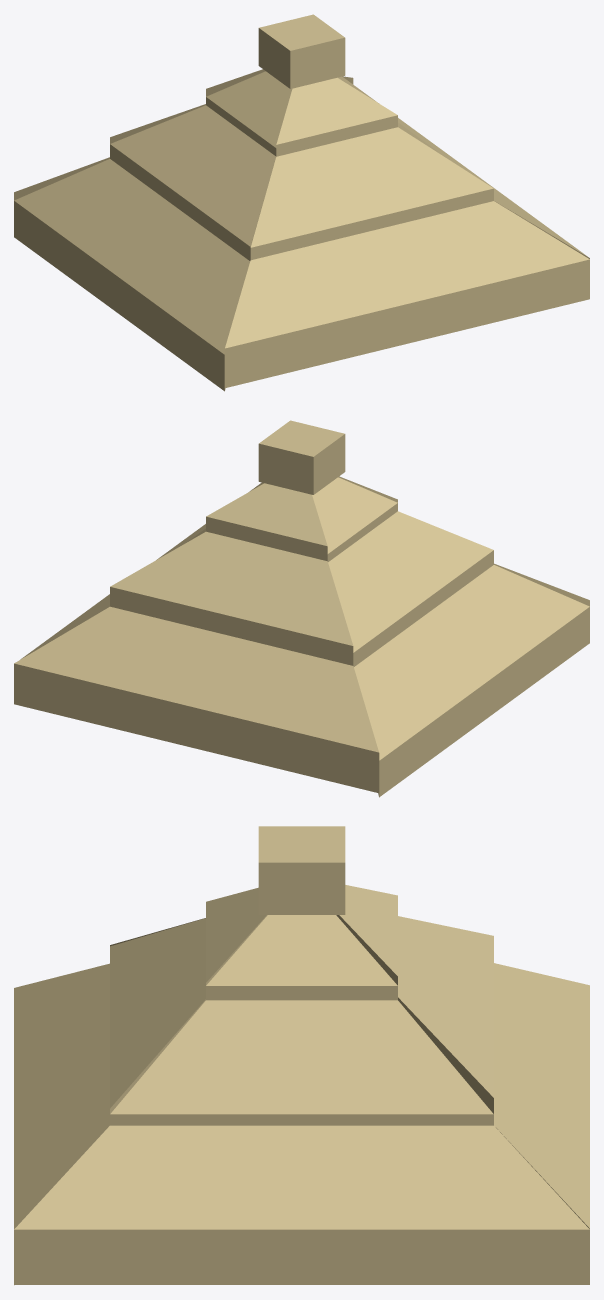
The model's file is thatch_roof_peak_steep.glb.
3 views of the same model, one above another, from view 1: azimuth 30°, elevation 25°; view 2: azimuth 150°, elevation 25°; view 3: azimuth 270°, elevation 25° (orthographic). The views are drawn at different scales.
Visible parts, largest first — view 1: Roof; view 2: Roof; view 3: Roof.
Part boxes in pixels (left/top/right/bottom): Roof: left=14, top=14, right=589, bottom=391; Roof: left=14, top=420, right=589, bottom=797; Roof: left=14, top=826, right=589, bottom=1285.
Bounding box in the file's own units: 3 × 1.86 × 3.
